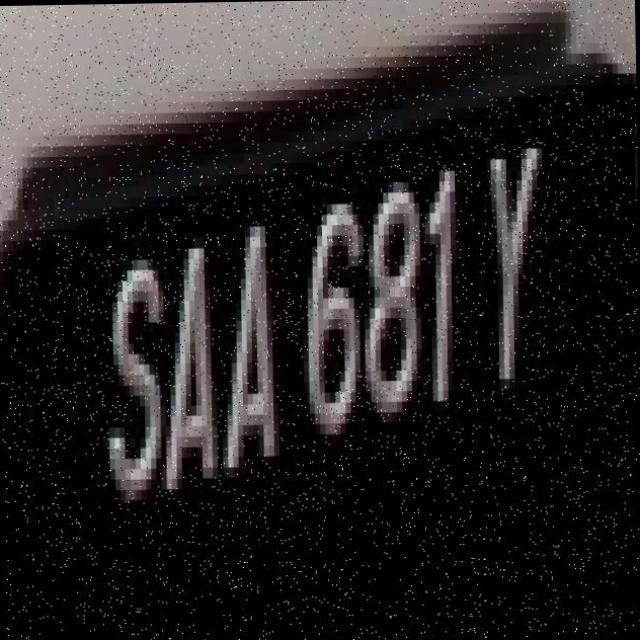LicensePlate: (59, 127, 560, 530)
